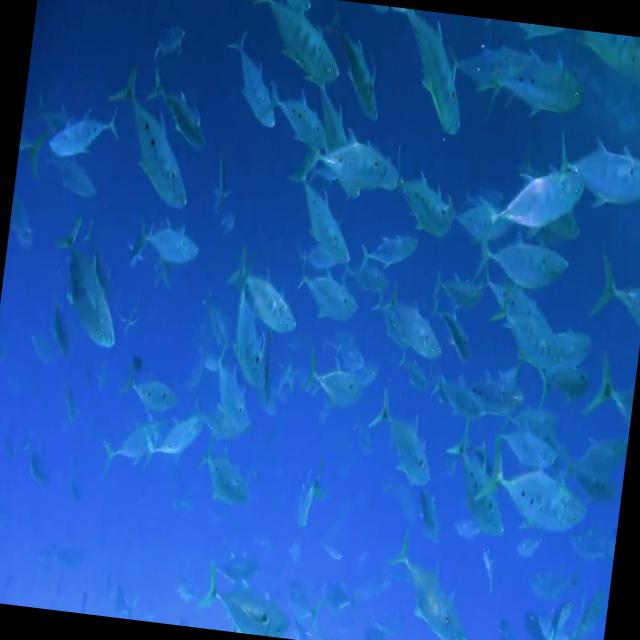fish: (100, 57, 204, 208), (40, 215, 132, 348), (380, 8, 474, 136), (478, 454, 593, 539), (278, 154, 365, 266), (479, 156, 585, 243), (544, 136, 640, 216), (221, 252, 305, 340), (218, 33, 289, 136), (474, 227, 572, 295)
